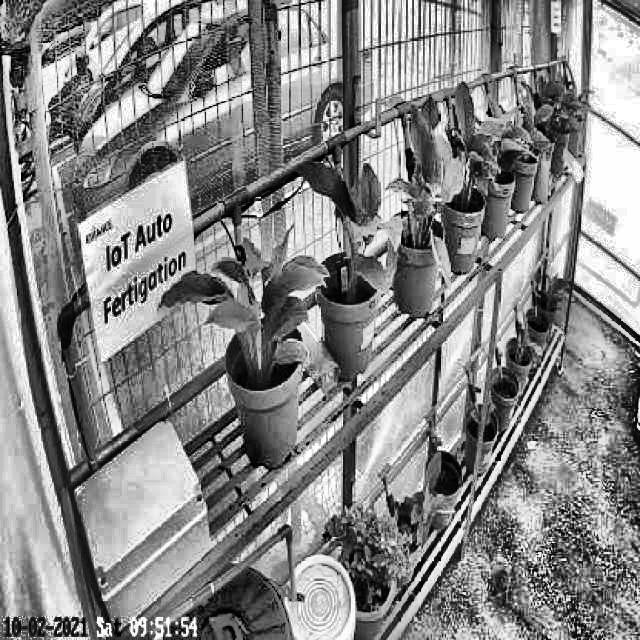plants: (162, 212, 330, 382), (382, 89, 464, 291), (294, 156, 402, 302), (436, 83, 502, 212)
